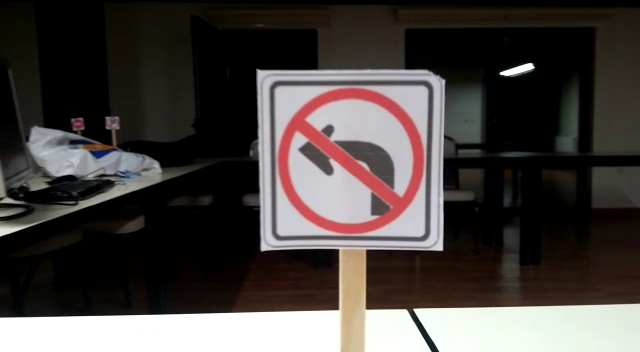sola_donulmez: (271, 74, 433, 239)
